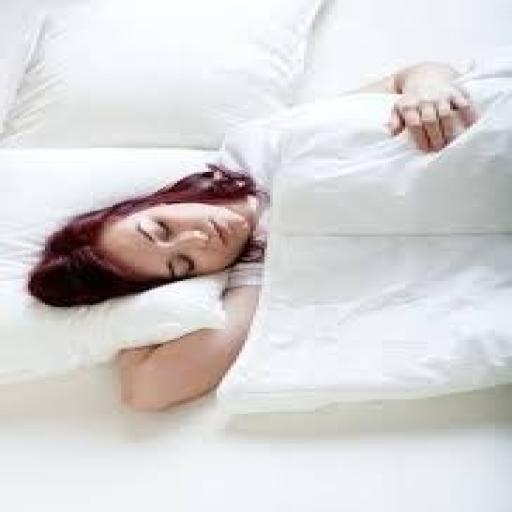sleeping: (23, 57, 495, 412)
